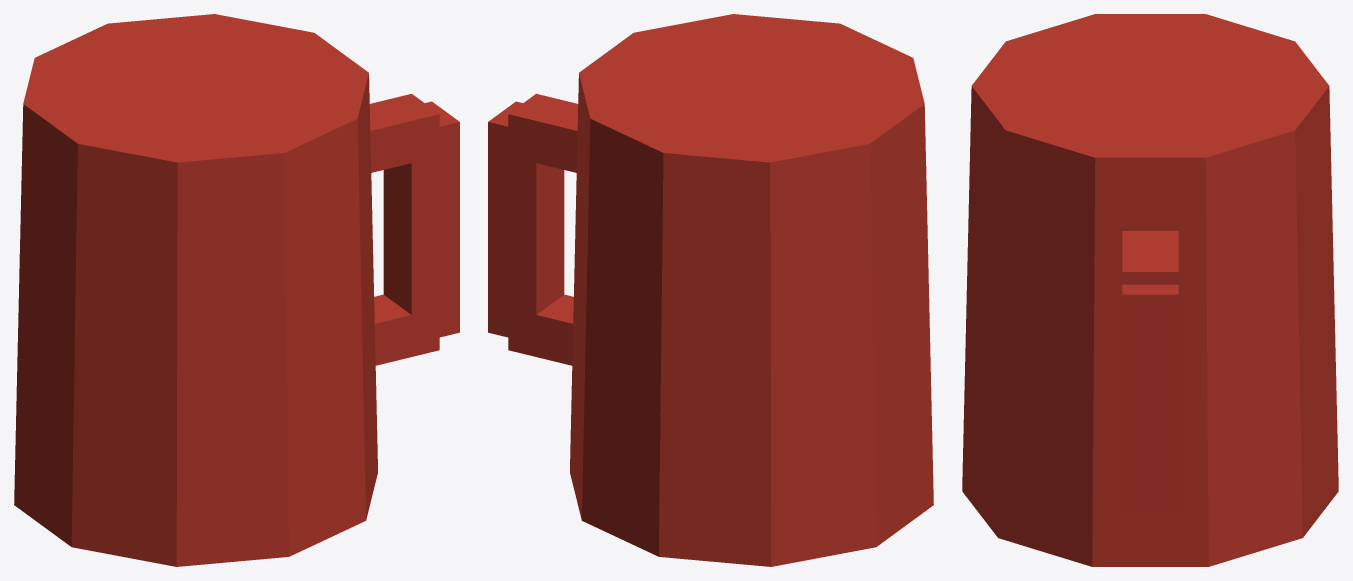
The model's file is mug.glb.
3 views of the same model, side by side, from view 1: azimuth 30°, elevation 25°; view 2: azimuth 150°, elevation 25°; view 3: azimuth 270°, elevation 25° (orthographic).
Parts seen in each view (by area): view 1: CoffeeMug; view 2: CoffeeMug; view 3: CoffeeMug.
Part boxes in pixels (box(x1,y1,x2,y2)): CoffeeMug: box(14, 14, 459, 566); CoffeeMug: box(488, 14, 933, 566); CoffeeMug: box(962, 14, 1338, 566).
Bounding box in the file's own units: 0.1 × 0.095 × 0.08.
